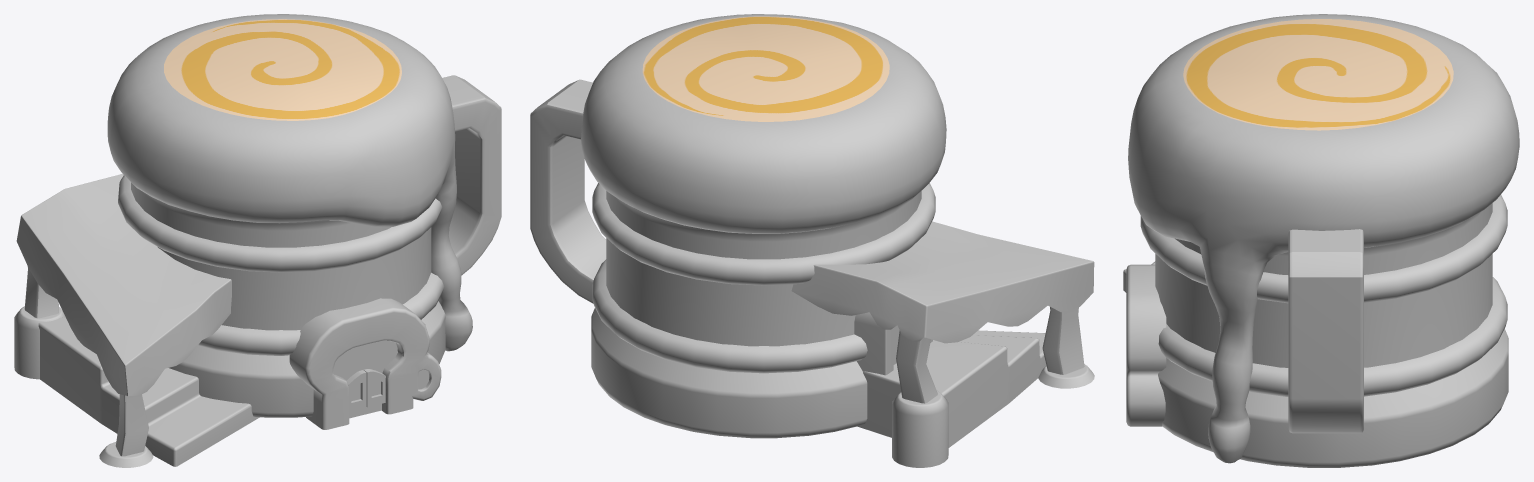
The model's file is Bar_Joy (2).fbx.
3 renders of one model, left to right at view 1: azimuth 30°, elevation 25°; view 2: azimuth 150°, elevation 25°; view 3: azimuth 270°, elevation 25°, orthographic. The views are drawn at different scales.
Parts seen in each view (by area): view 1: Bar_Joy1; view 2: Bar_Joy1; view 3: Bar_Joy1.
Part boxes in pixels (bbox=[...]): Bar_Joy1: bbox=[14, 14, 501, 467]; Bar_Joy1: bbox=[530, 14, 1094, 467]; Bar_Joy1: bbox=[1123, 14, 1519, 467].
Size of the model in its own units: 903 by 550 by 612.
